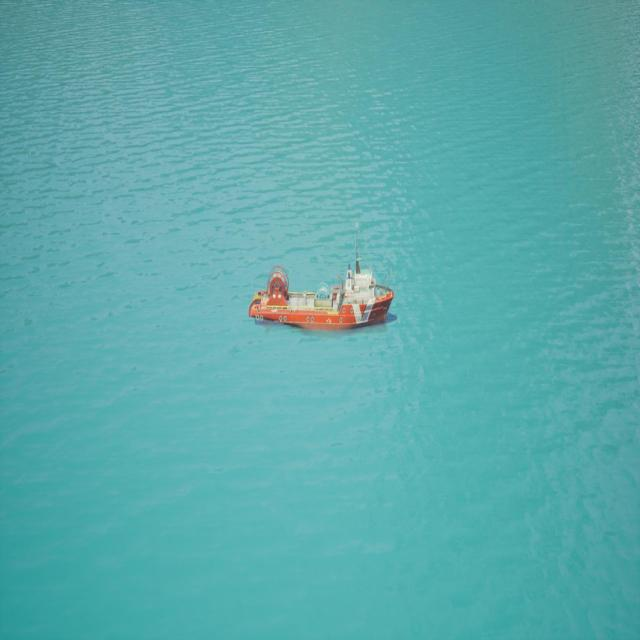tug boat: (248, 256, 398, 336)
